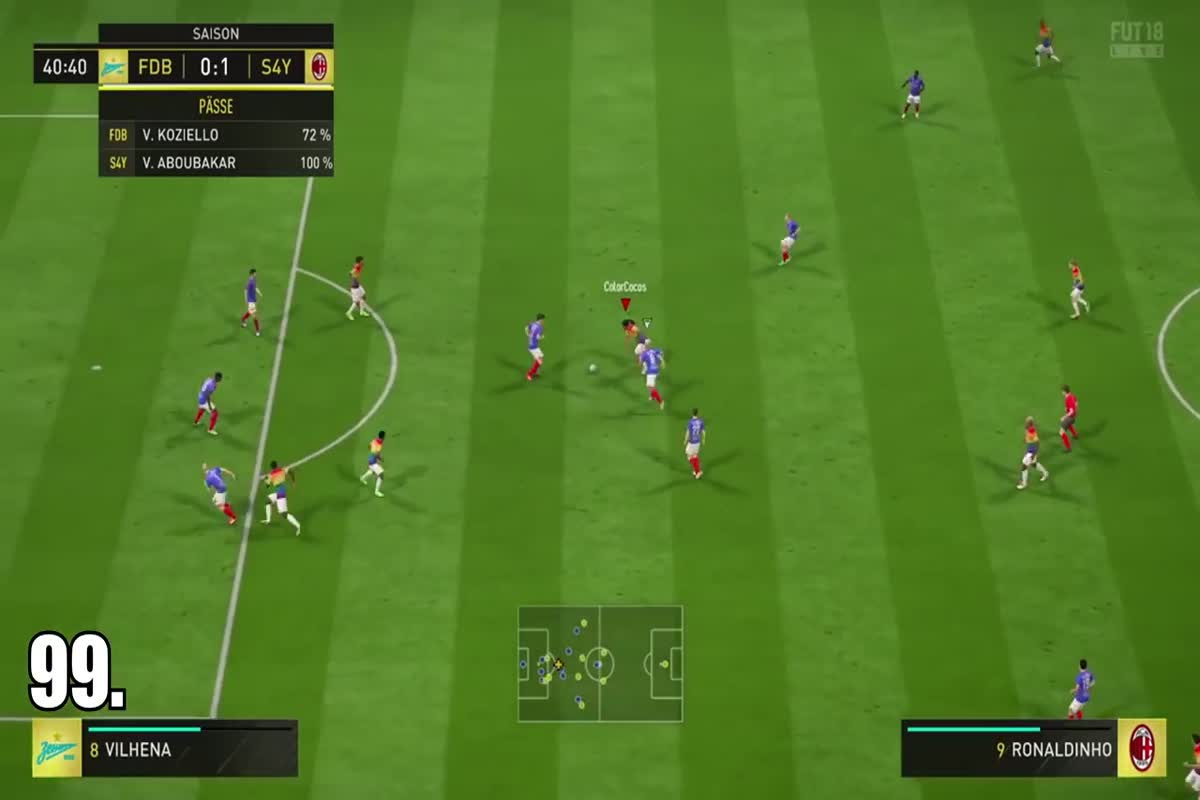ball: (583, 356, 606, 377)
